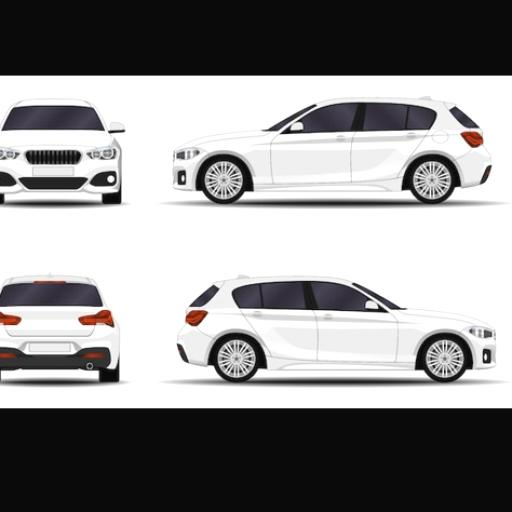hatchback: (174, 97, 491, 203), (179, 277, 495, 380), (0, 99, 124, 203), (0, 277, 121, 380)
